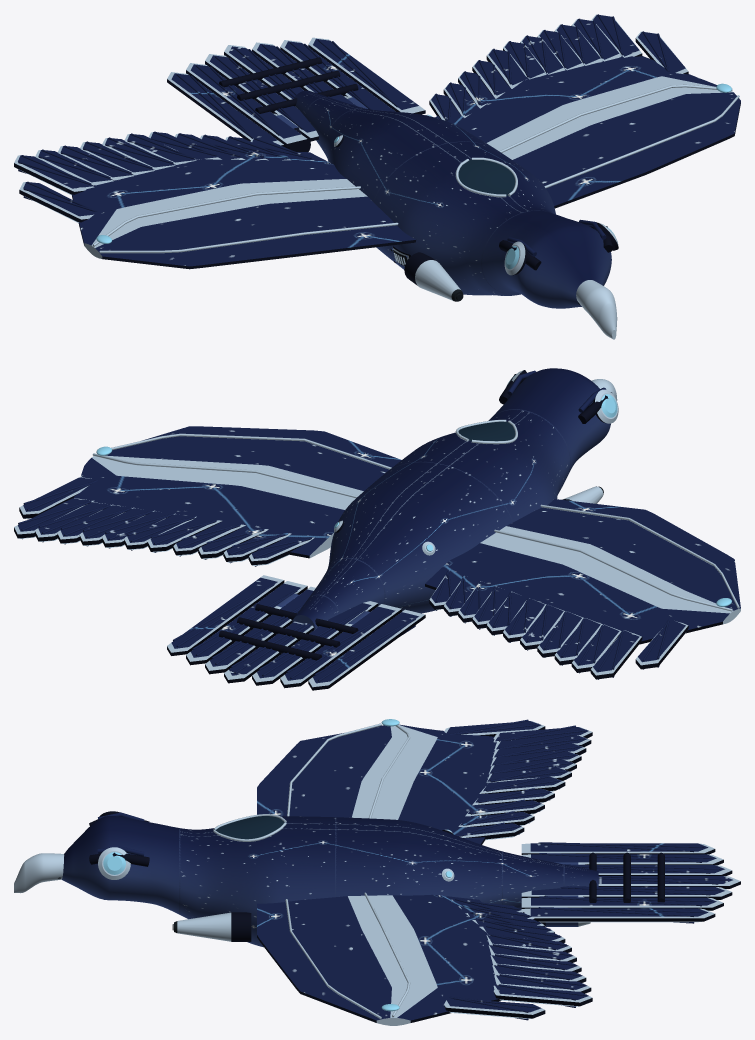
3 views of the same model, one above another, from view 1: azimuth 30°, elevation 25°; view 2: azimuth 150°, elevation 25°; view 3: azimuth 270°, elevation 25° (orthographic). The views are drawn at different scales.
Visible parts, largest first — view 1: goshawk_hull; view 2: goshawk_hull; view 3: goshawk_hull.
Part boxes in pixels (x1=…): goshawk_hull: x1=14, y1=14, x2=740, y2=339; goshawk_hull: x1=14, y1=368, x2=740, y2=690; goshawk_hull: x1=14, y1=719, x2=740, y2=1025.
Bounding box in the file's own units: 63.21 × 11.85 × 66.
1 material, 1 textured.
